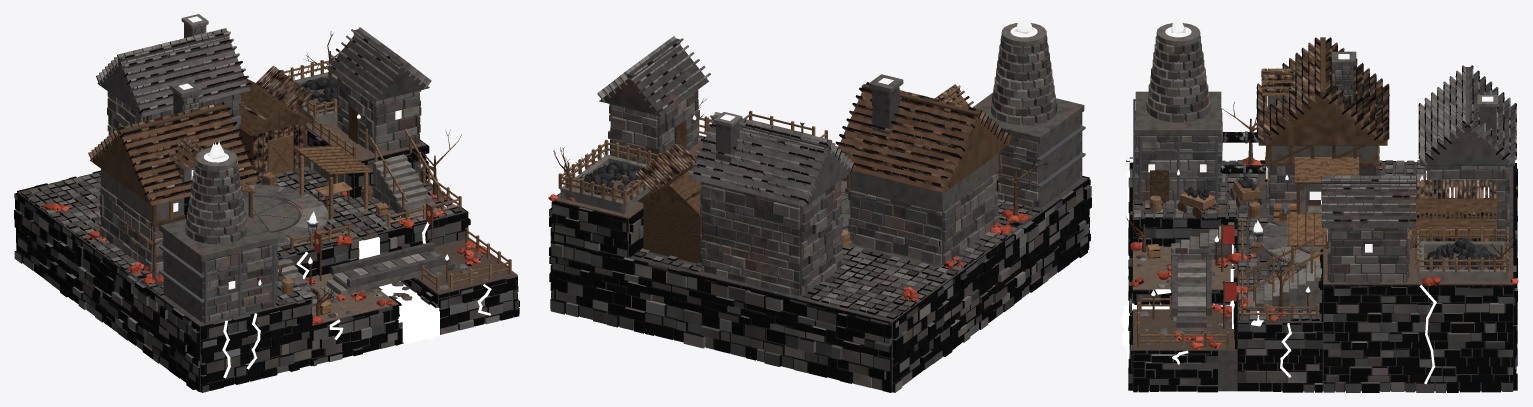
Rendered from Fuego.glb.
3 renders of one model, left to right at view 1: azimuth 30°, elevation 25°; view 2: azimuth 150°, elevation 25°; view 3: azimuth 270°, elevation 25°, orthographic. The views are drawn at different scales.
Parts seen in each view (by area): view 1: Acantilados, Horno_Fundicion, Herreria_Techo, Empedrado, Casa_Piedra_Techo, Terraza_Tierra, Horno_Chimenea, Herreria, Torre_Plataforma, Torre_Techo, Puente_Piedra, Base_Roca (+18 smaller); view 2: Acantilados, Casa_Piedra, Herreria_Techo, Herreria, Casa_Piedra_Techo, Empedrado, Horno_Fundicion, Horno_Chimenea, Torre_Techo, Base_Roca, Torre_Plataforma, Galpon_Techo (+8 smaller); view 3: Acantilados, Herreria_Techo, Base_Roca, Horno_Fundicion, Casa_Piedra_Techo, Terraza_Tierra, Horno_Chimenea, Torre_Techo, Torre_Plataforma, Empedrado, Galpon_Techo, Herreria (+23 smaller).
Boxes of the visible parts, x1,y1,x2,y2 form: Acantilados: (14, 129, 519, 392); Horno_Fundicion: (159, 214, 278, 324); Herreria_Techo: (88, 102, 258, 205); Empedrado: (20, 166, 461, 305); Casa_Piedra_Techo: (96, 28, 251, 116); Terraza_Tierra: (304, 89, 517, 325); Horno_Chimenea: (185, 149, 247, 244); Herreria: (100, 169, 242, 272); Torre_Plataforma: (337, 77, 421, 153); Torre_Techo: (325, 27, 431, 101); Puente_Piedra: (320, 242, 459, 298); Base_Roca: (17, 128, 517, 392); Acantilados: (549, 136, 1091, 392); Casa_Piedra: (700, 180, 843, 295); Herreria_Techo: (835, 82, 1011, 192); Herreria: (845, 152, 1001, 265); Casa_Piedra_Techo: (688, 112, 854, 206); Empedrado: (633, 135, 1043, 319); Horno_Fundicion: (972, 92, 1085, 208); Horno_Chimenea: (991, 23, 1057, 125); Torre_Techo: (597, 36, 710, 116); Base_Roca: (552, 137, 1087, 392); Torre_Plataforma: (608, 90, 699, 165); Galpon_Techo: (635, 142, 701, 216); Acantilados: (1128, 161, 1517, 392); Herreria_Techo: (1256, 37, 1389, 145); Base_Roca: (1132, 162, 1513, 391); Horno_Fundicion: (1126, 91, 1222, 202); Casa_Piedra_Techo: (1418, 65, 1516, 165); Terraza_Tierra: (1132, 245, 1513, 350); Horno_Chimenea: (1146, 23, 1210, 122); Torre_Techo: (1321, 175, 1416, 227); Torre_Plataforma: (1327, 228, 1410, 283); Empedrado: (1133, 160, 1425, 320); Galpon_Techo: (1411, 179, 1497, 238); Herreria: (1265, 145, 1380, 215).
Bounding box in the file's own units: 21.56 × 13.67 × 20.92.
Materials: 121 (96 with a texture image).
